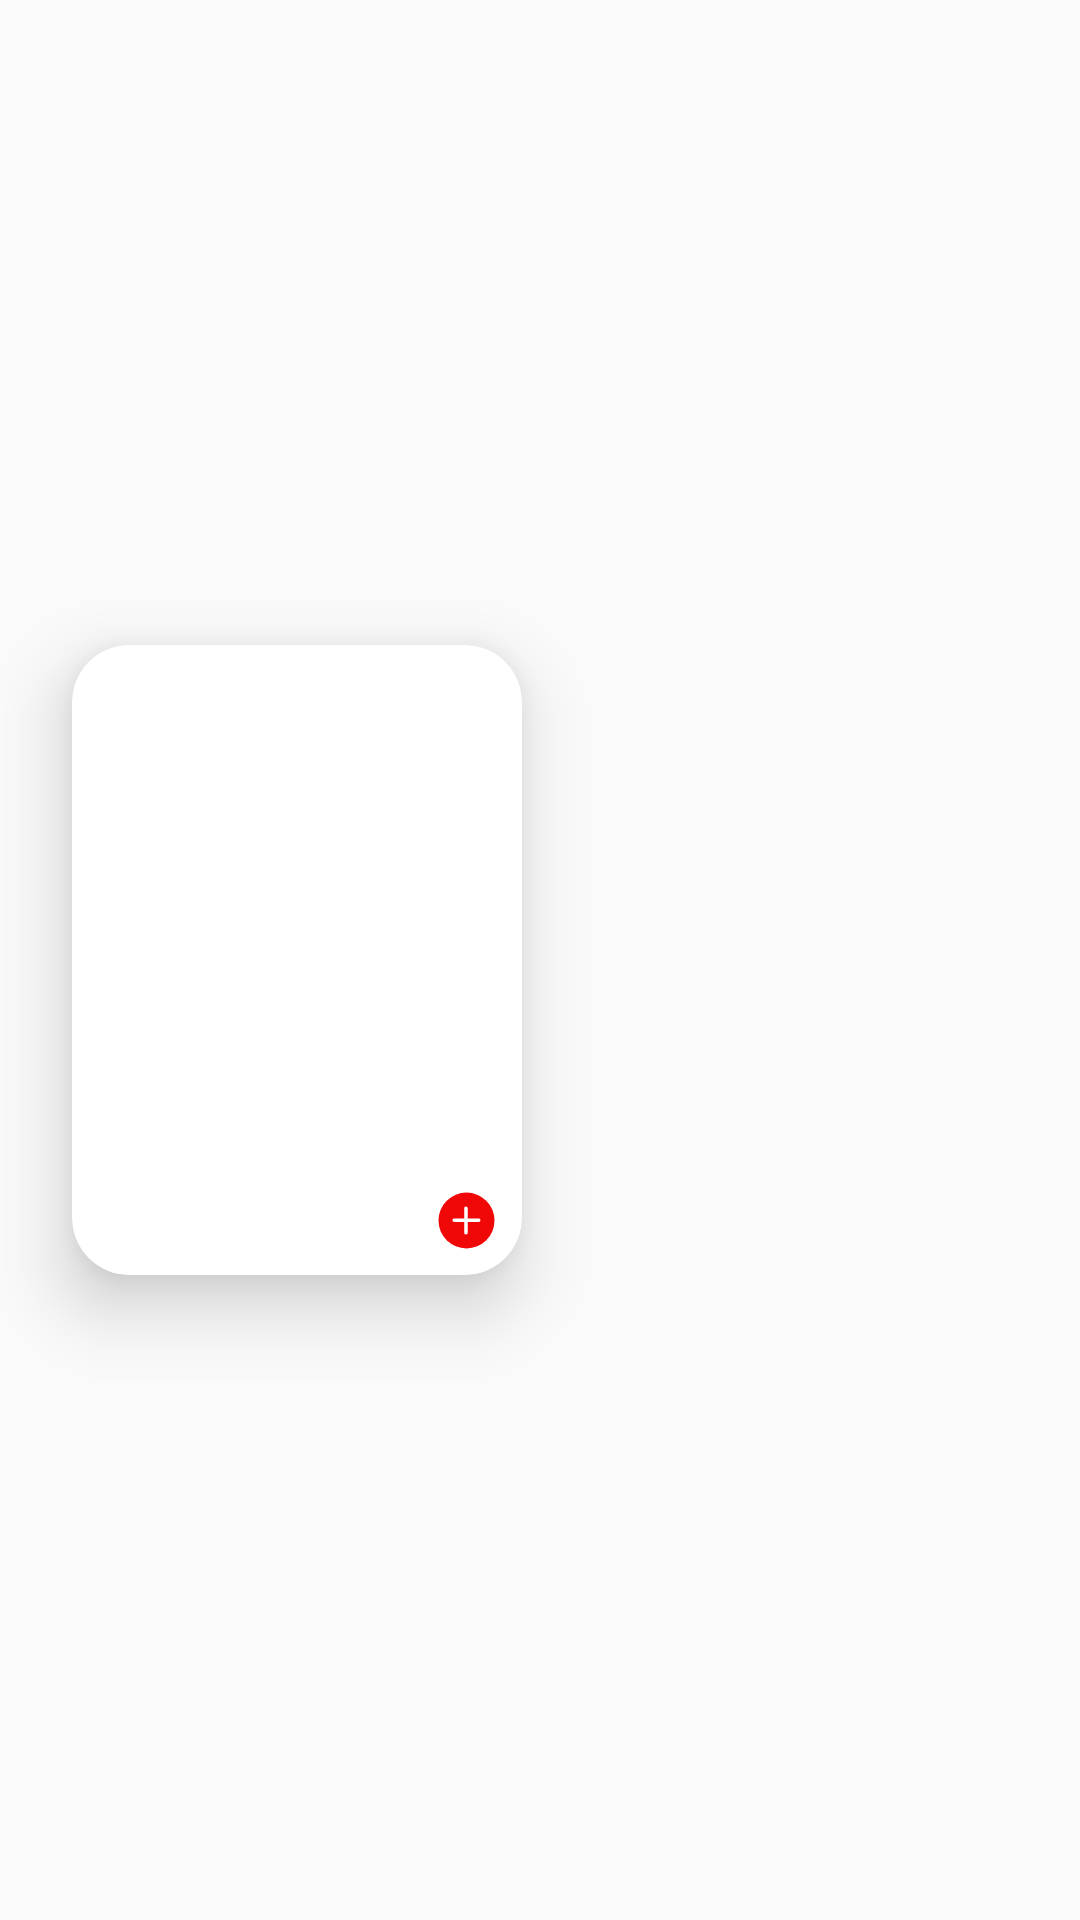

Named icons in this screenshot (1080px×1920px) and their bounding boxes, region(x1, y1, x2, y2):
product plus: region(438, 1192, 495, 1249)
